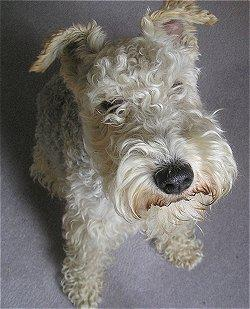wire-haired_fox_terrier: (29, 1, 238, 308)
